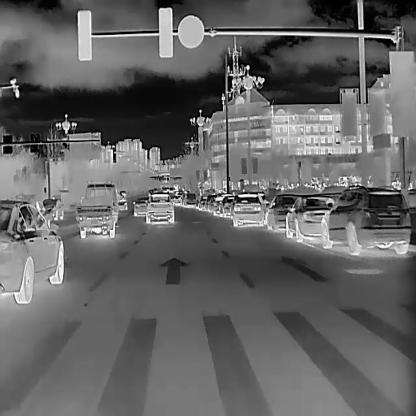bus: (173, 184, 177, 191)
car: (0, 199, 62, 302), (321, 183, 410, 254), (285, 196, 334, 241), (232, 190, 268, 227), (266, 193, 294, 233), (146, 193, 174, 224), (212, 192, 231, 216), (41, 198, 63, 218), (218, 195, 235, 219), (132, 197, 146, 215), (182, 192, 196, 209), (204, 194, 217, 212), (118, 193, 128, 209), (198, 194, 208, 210), (173, 194, 183, 205), (118, 190, 126, 197), (168, 187, 172, 192), (162, 188, 166, 192), (153, 188, 156, 192)
truck: (75, 182, 118, 236)
